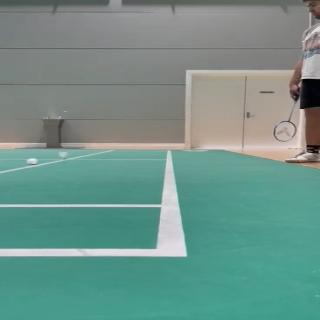Shuttle: (58, 151, 68, 159), (27, 158, 38, 165)
